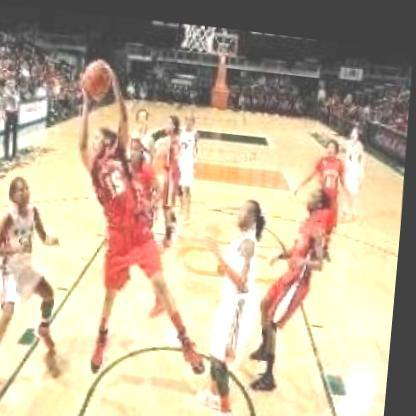basketball: (81, 54, 116, 98)
